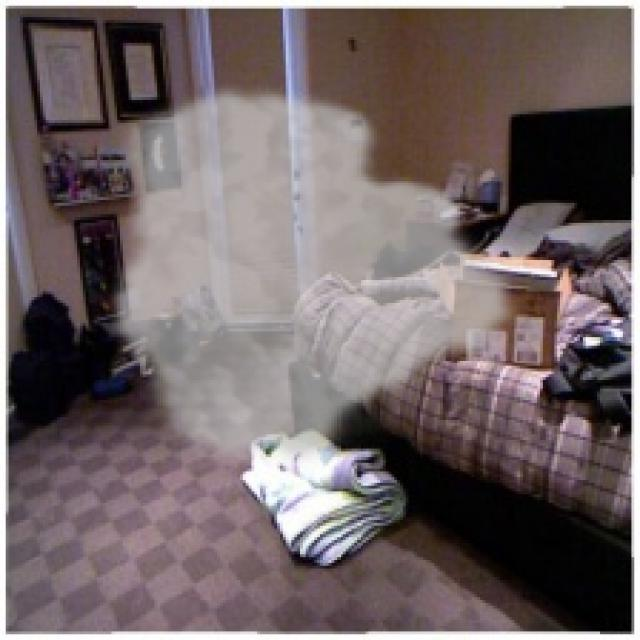smoke: (106, 80, 523, 474)
